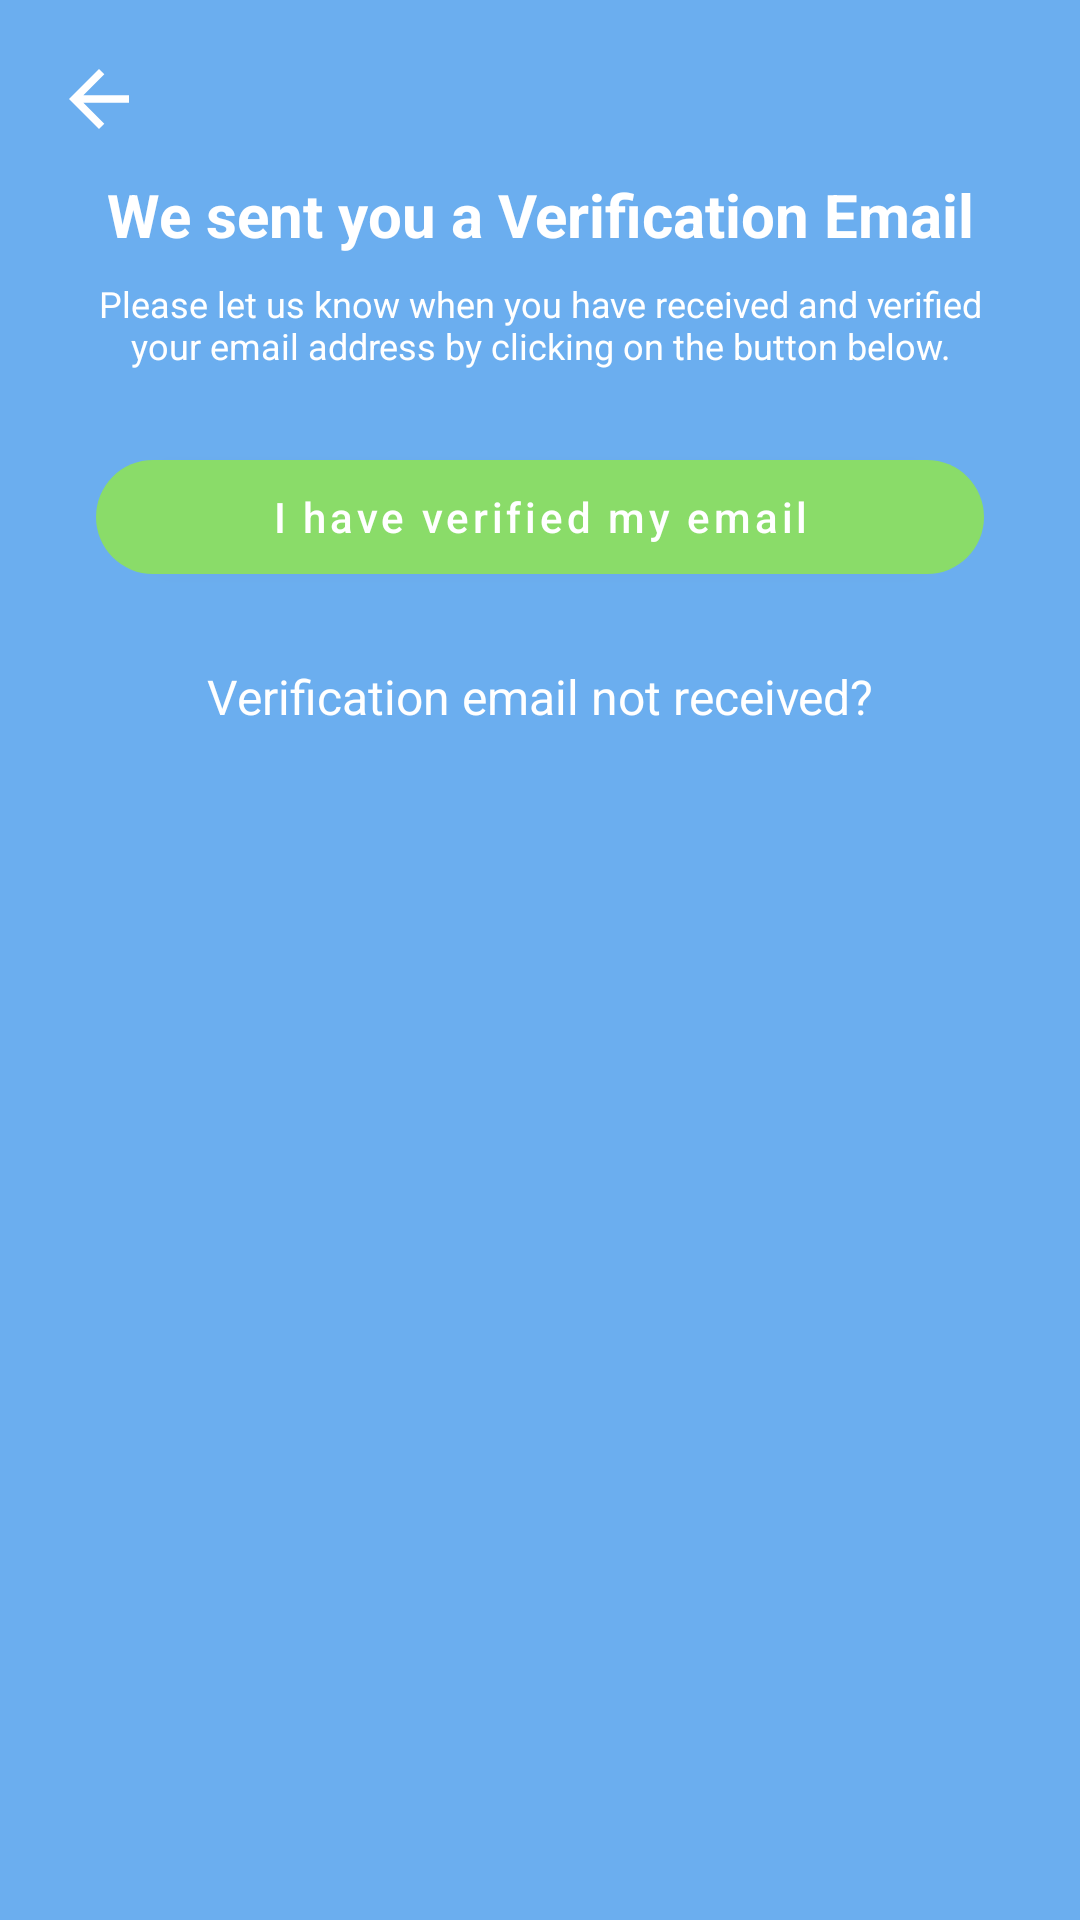

Icons on this 1080px×1920px Android screen, each with the point to tap as (x,y):
Back: (99,99)
